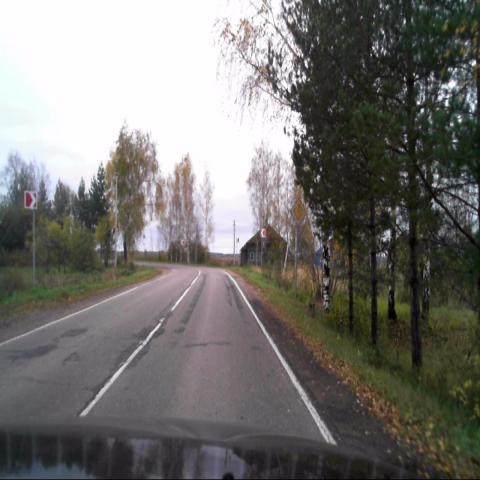2_1: (291, 197, 306, 226)
